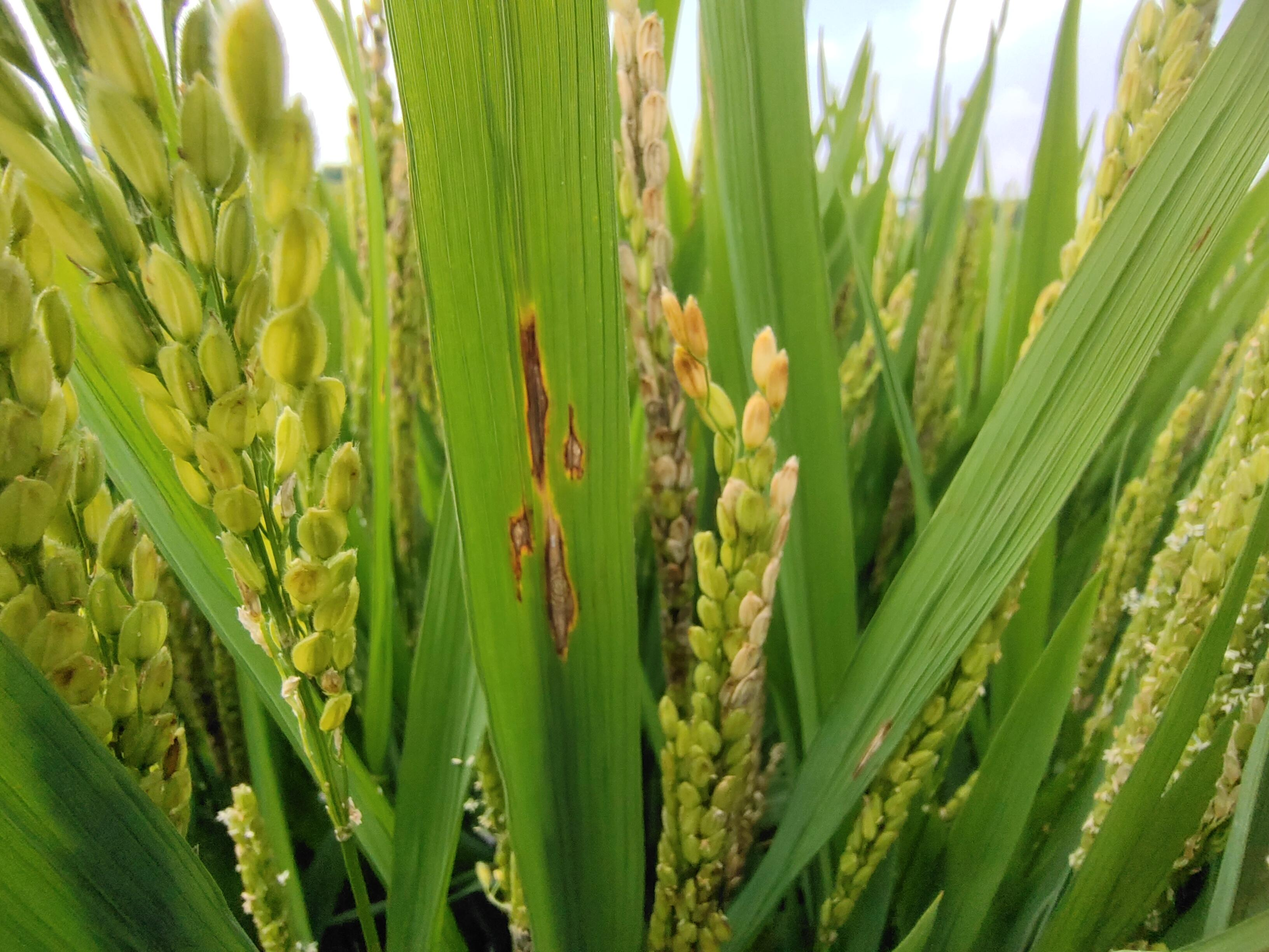LEAF: (386, 0, 643, 952)
LEAF BLAST: (520, 312, 549, 488), (545, 511, 576, 659), (509, 503, 533, 600), (564, 405, 584, 480)
